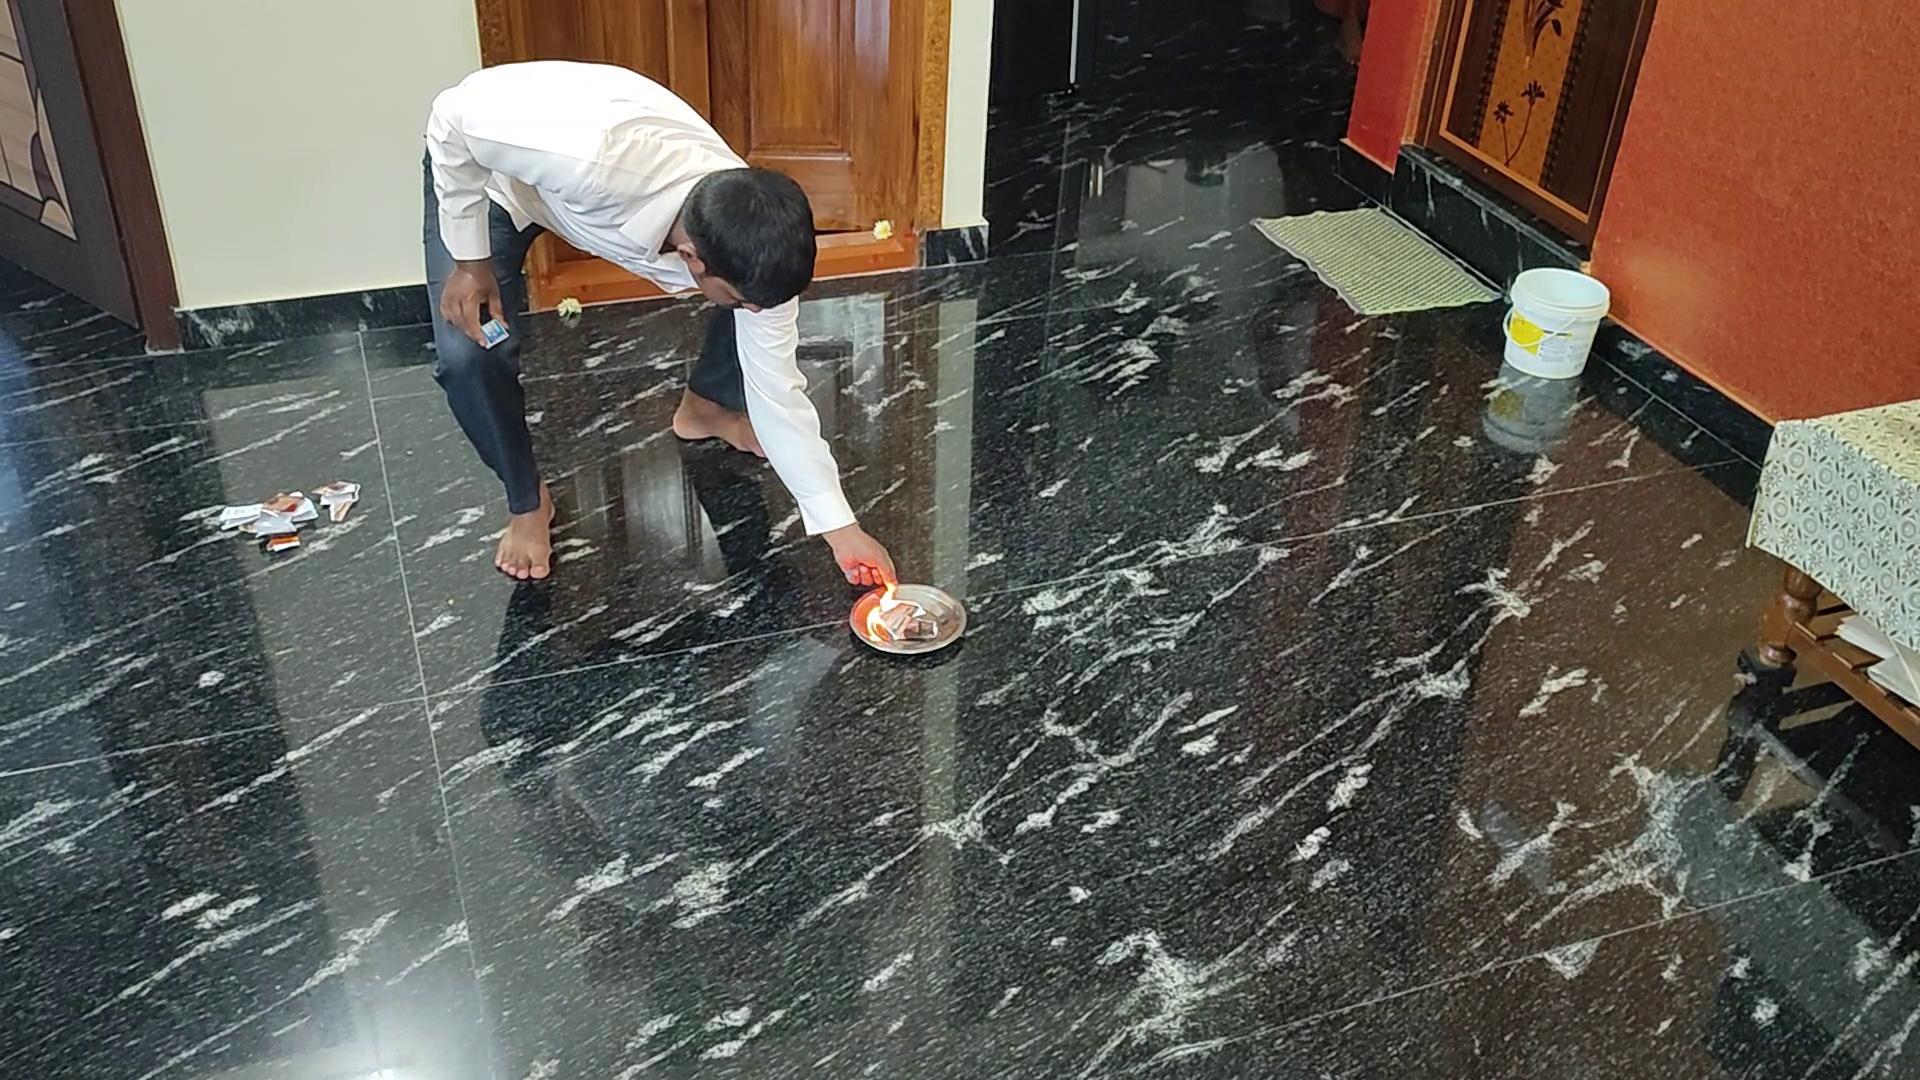Fire: (868, 578, 926, 641)
